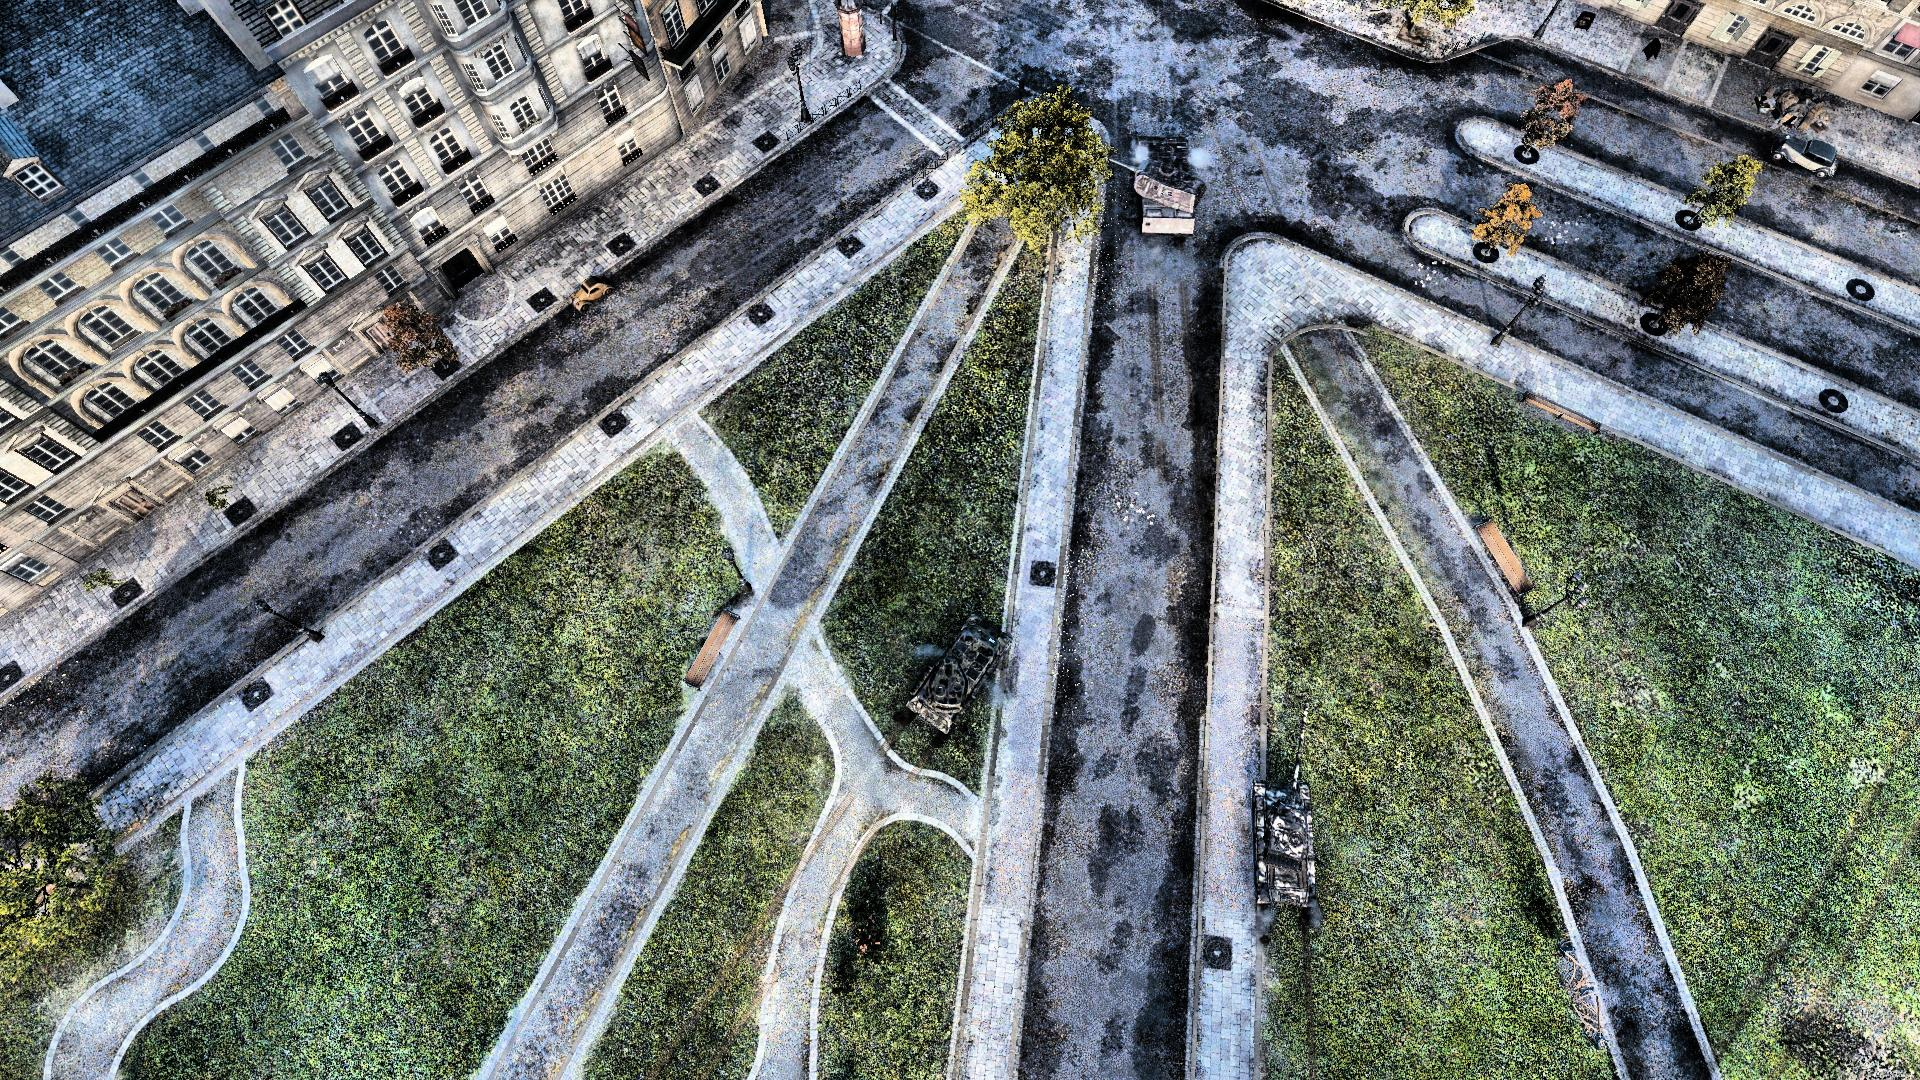military-vehicle: (1253, 705, 1319, 910), (905, 608, 1010, 733), (1102, 133, 1205, 241)
